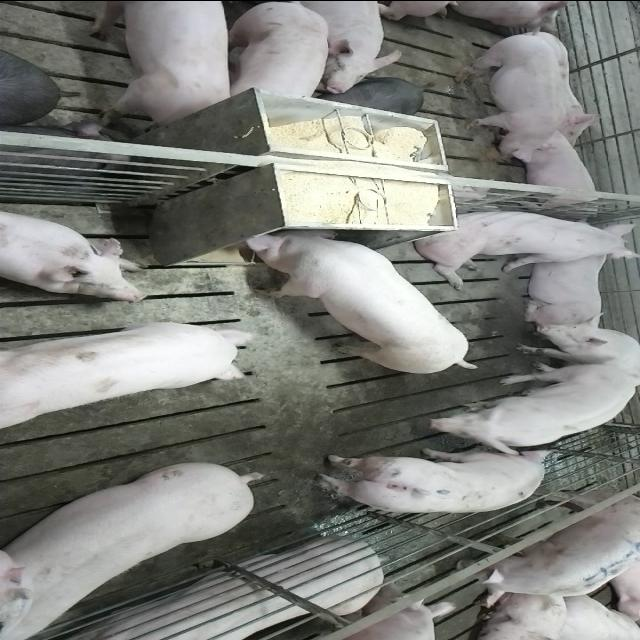Feeding: (240, 220, 477, 370)
Sitting: (411, 204, 636, 286), (509, 319, 638, 378)
Standing: (5, 456, 267, 635), (0, 318, 253, 444), (396, 354, 636, 450), (449, 491, 640, 608), (82, 3, 236, 127), (312, 446, 552, 514), (449, 27, 561, 159), (252, 0, 402, 90), (224, 2, 330, 100)
Sternal_lying: (51, 539, 436, 640), (0, 206, 148, 301), (508, 133, 604, 211), (518, 246, 610, 325)
